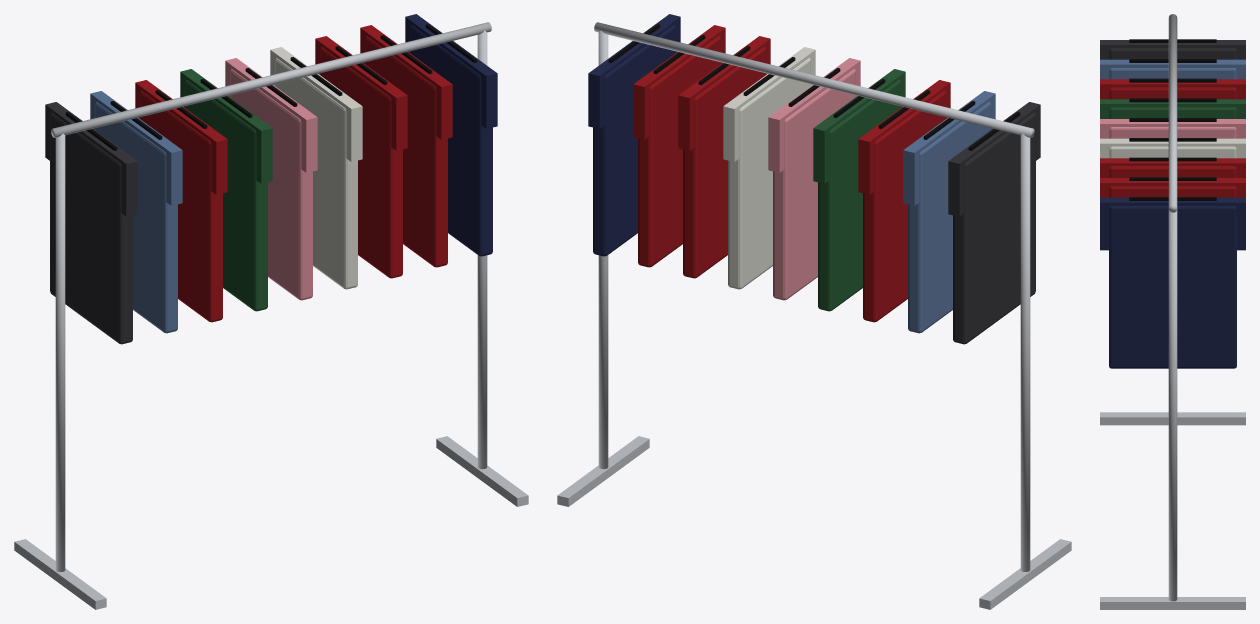
Rendered from clothes_rack.glb.
3 views of the same model, side by side, from view 1: azimuth 30°, elevation 25°; view 2: azimuth 150°, elevation 25°; view 3: azimuth 270°, elevation 25° (orthographic). The views are drawn at different scales.
Parts seen in each view (by area): view 1: clothes_rack; view 2: clothes_rack; view 3: clothes_rack.
Boxes of the visible parts, box(x1,y1,x2,y2) form: clothes_rack: box(14, 14, 528, 609); clothes_rack: box(557, 14, 1071, 609); clothes_rack: box(1100, 14, 1245, 609).
Size of the model in its own units: 1.55 by 1.53 by 0.5.
Materials: 1 (1 with a texture image).
